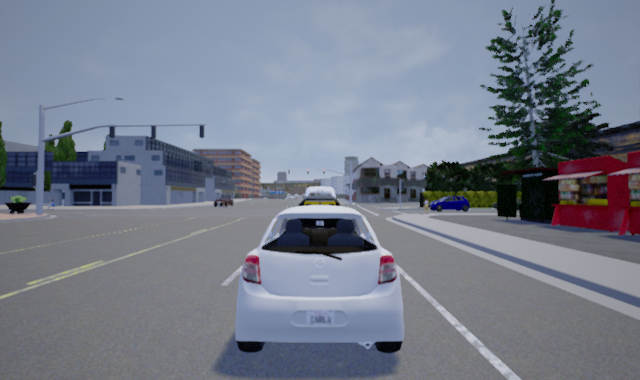vehicle: (231, 204, 404, 353), (298, 186, 341, 228), (429, 196, 470, 212), (212, 194, 233, 206)
